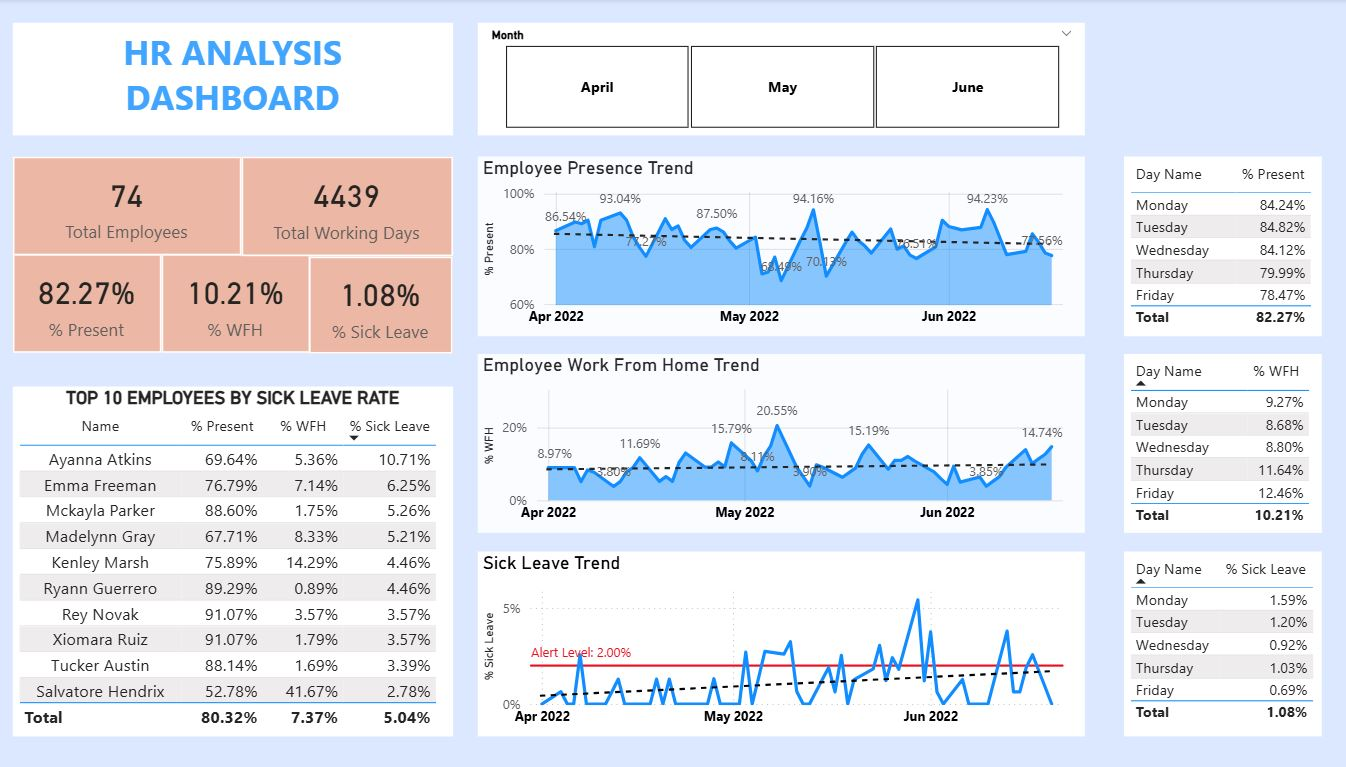

The page's visual inventory and layout, read from the dashboard file:
{"tool":"powerbi","page":{"name":"Page 1","canvas":[1280,720],"ordinal":0},"visuals":[{"type":"card","fields":{"Values":["Data Gathering.Num of Employees"]},"box":[17,146.3,212.8,91.9],"z":0},{"type":"card","fields":{"Values":["Data Gathering.% Sick Leave"]},"box":[292.6,239.3,133.7,90.7],"z":1000},{"type":"card","fields":{"Values":["Data Gathering.% Present"]},"box":[17.2,237.7,138.4,91.9],"z":2000},{"type":"card","fields":{"Values":["Data Gathering.% WFH"]},"box":[155.6,237.7,138.4,91.9],"z":3000},{"type":"slicer","fields":{"Values":["Data Gathering.Date.Variation.Date Hierarchy.Month"]},"box":[450,22.1,565.1,104.7],"z":4000},{"type":"tableEx","title":"TOP 10 EMPLOYEES BY SICK LEAVE RATE","fields":{"Values":["Data Gathering.Name","Data Gathering.% Present","Data Gathering.% WFH","Data Gathering.% Sick Leave"]},"box":[17.4,360.5,409.3,325.6],"z":5000},{"type":"areaChart","title":"Employee Work From Home Trend","fields":{"Category":["Data Gathering.Date"],"Y":["Data Gathering.% WFH"]},"box":[450,330.2,565.1,166.3],"z":6000},{"type":"card","fields":{"Values":["Data Gathering.Total Working Days"]},"box":[229.8,146.3,196.5,93],"z":7000},{"type":"lineChart","title":"Sick Leave Trend","fields":{"Category":["Data Gathering.Date"],"Y":["Data Gathering.% Sick Leave"]},"box":[450,514,565.1,172.1],"z":8000},{"type":"areaChart","title":"Employee Presence Trend","fields":{"Category":["Data Gathering.Date"],"Y":["Data Gathering.% Present"]},"box":[450,146.5,565.1,167.4],"z":9000},{"type":"tableEx","fields":{"Values":["Data Gathering.Day Name","Data Gathering.% Sick Leave"]},"box":[1051.2,514,183.7,172.1],"z":10000},{"type":"tableEx","fields":{"Values":["Data Gathering.Day Name","Data Gathering.% WFH"]},"box":[1051.2,330.2,183.7,166.3],"z":11000},{"type":"tableEx","fields":{"Values":["Data Gathering.Day Name","Data Gathering.% Present"]},"box":[1051.2,146.5,183.7,167.4],"z":12000},{"type":"textbox","box":[17.4,22.1,409.3,104.7],"z":13000}]}

Visuals, with their boxes in screenshot pixels (x1, y1, x2, y2), scaled from the page's 1280x720 canvas onto the 1346x767 screenshot:
card - Data Gathering.Num of Employees: x1=18 y1=156 x2=242 y2=254
card - Data Gathering.% Sick Leave: x1=308 y1=255 x2=448 y2=352
card - Data Gathering.% Present: x1=18 y1=253 x2=164 y2=351
card - Data Gathering.% WFH: x1=164 y1=253 x2=309 y2=351
slicer - Data Gathering.Date.Variation.Date Hierarchy.Month: x1=473 y1=24 x2=1067 y2=135
"TOP 10 EMPLOYEES BY SICK LEAVE RATE" tableEx: x1=18 y1=384 x2=449 y2=731
"Employee Work From Home Trend" areaChart: x1=473 y1=352 x2=1067 y2=529
card - Data Gathering.Total Working Days: x1=242 y1=156 x2=448 y2=255
"Sick Leave Trend" lineChart: x1=473 y1=548 x2=1067 y2=731
"Employee Presence Trend" areaChart: x1=473 y1=156 x2=1067 y2=334
tableEx - Data Gathering.Day Name x Data Gathering.% Sick Leave: x1=1105 y1=548 x2=1299 y2=731
tableEx - Data Gathering.Day Name x Data Gathering.% WFH: x1=1105 y1=352 x2=1299 y2=529
tableEx - Data Gathering.Day Name x Data Gathering.% Present: x1=1105 y1=156 x2=1299 y2=334
textbox: x1=18 y1=24 x2=449 y2=135
